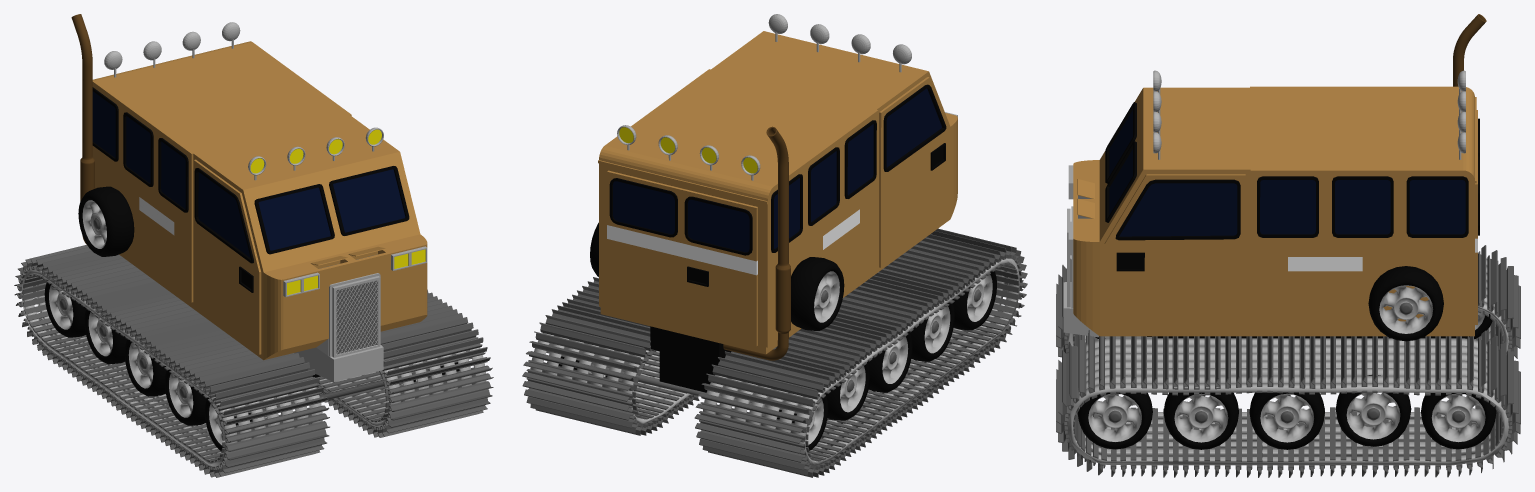
The model's file is Snowcat.fbx.
The picture shows the model from 3 angles, left to right: view 1: azimuth 30°, elevation 25°; view 2: azimuth 150°, elevation 25°; view 3: azimuth 270°, elevation 25°; orthographic projection. The views are drawn at different scales.
Parts seen in each view (by area): view 1: Main, Rails, Tires, Grills, Pipe.001, Back Light, Front Light; view 2: Main, Rails, Tires, Pipe.001, Front Light, Back Light; view 3: Main, Rails, Tires, Grills, Pipe.001, Front Light, Back Light.
Part boxes in pixels (x1,y1,x2,y2): Main: [92, 41, 427, 377]; Rails: [14, 245, 493, 477]; Tires: [44, 186, 459, 450]; Grills: [294, 273, 383, 381]; Pipe.001: [71, 14, 94, 245]; Back Light: [104, 22, 240, 77]; Front Light: [248, 127, 383, 180]; Main: [598, 31, 957, 392]; Rails: [522, 228, 1027, 477]; Tires: [558, 222, 996, 450]; Pipe.001: [723, 126, 790, 360]; Front Light: [768, 14, 911, 72]; Back Light: [617, 125, 760, 180]; Main: [1068, 86, 1479, 338]; Rails: [1056, 245, 1520, 477]; Tires: [1077, 266, 1496, 449]; Grills: [1063, 206, 1151, 338]; Pipe.001: [1453, 14, 1486, 86]; Front Light: [1153, 70, 1161, 159]; Back Light: [1457, 70, 1465, 159].
Size of the model in its own units: 488 by 578 by 698.
